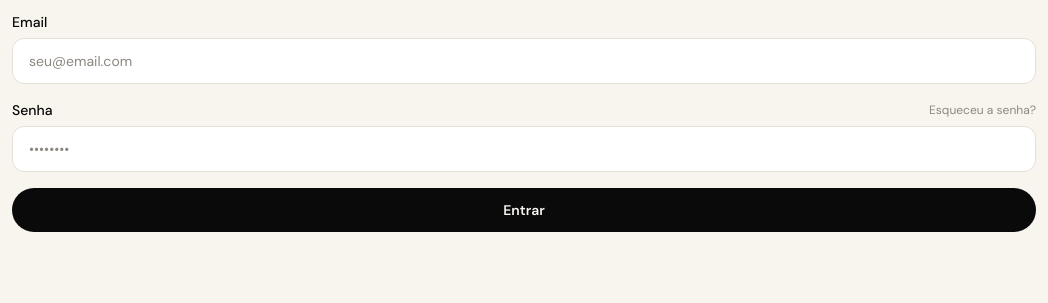
Scenario: LoginForm › displays error message when signIn returns an error
Type "test@example.com" into the field labelled "Email" at (524, 61), box [12,38,1036,84]
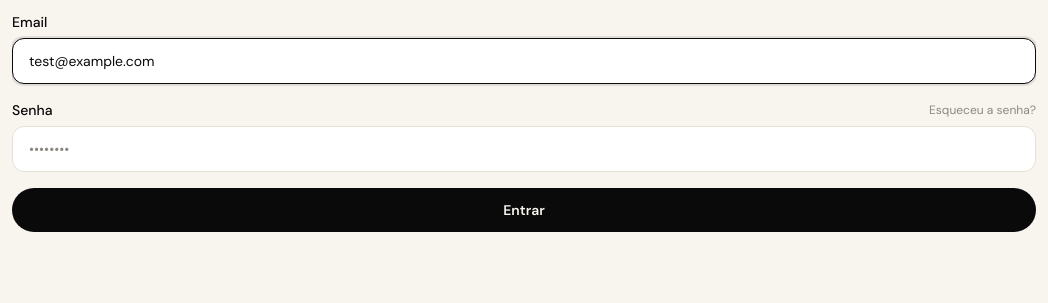
Type "wrongpass" into the password field labelled "Senha" at (524, 149), box [12,126,1036,172]
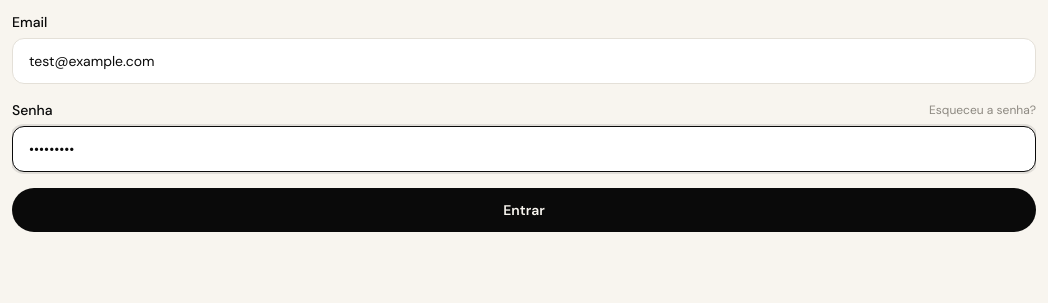
Click the button "Entrar" at (524, 210), box [12,188,1036,232]
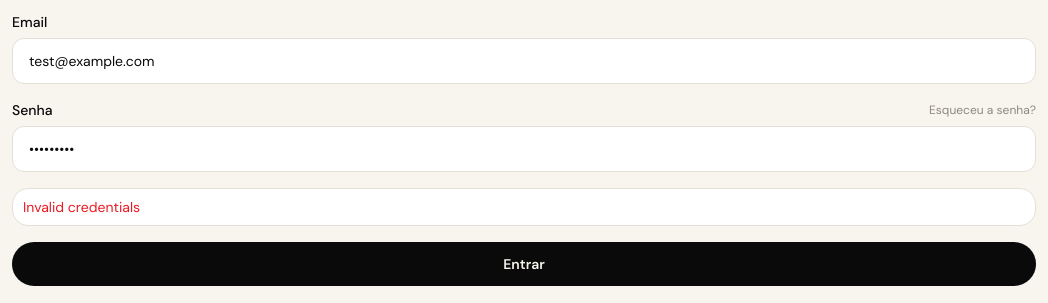
Now the text "Invalid credentials" is shown, box [23,198,140,216]
